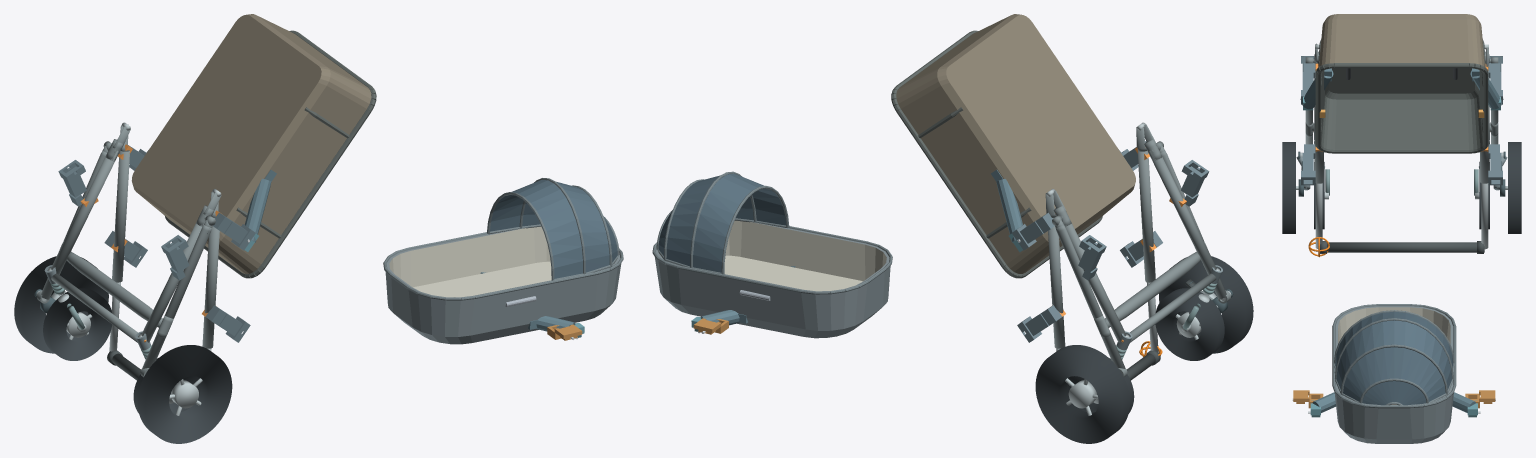
The model's file is D18_w650_state3_wheel_M.glb.
3 renders of one model, left to right at view 1: azimuth 30°, elevation 25°; view 2: azimuth 150°, elevation 25°; view 3: azimuth 270°, elevation 25°, orthographic. The views are drawn at different scales.
Parts seen in each view (by area): view 1: D18_Lower, D18_Upper, RL_tire.011, FR_tire.011, RR_tire.011, main_upper_1.012, main_lower_1.012, V46_rearbar.011, V46_rear_leg_-1.011, main_upper_-1.012, main_lower_-1.012, D18_Lower_Mount_M (+5 smaller); view 2: D18_Lower, D18_Upper, RR_tire.011, FL_tire.011, RL_tire.011, main_upper_-1.012, main_lower_-1.012, V46_rearbar.011, V46_rear_leg_1.011, main_upper_1.012, main_lower_1.012, D18_Lower_Mount_M (+6 smaller); view 3: D18_Lower, D18_Upper, round_handle.013, RL_tire.011, RR_tire.011, D18_Lower_Mount_M, D18_Upper_Mount_H, Universal_Cabin_Receiver_H_1, Universal_Cabin_Receiver_H_-1, handle_slider_1.013, handle_slider_-1.013, main_upper_1.012 (+7 smaller).
Part boxes in pixels (x1,y1,x2,y2): D18_Lower: (131,14,376,278); D18_Upper: (383,178,623,344); RL_tire.011: (137,345,232,443); FR_tire.011: (43,288,112,360); RR_tire.011: (14,256,108,353); main_upper_1.012: (112,151,129,282); main_lower_1.012: (51,150,118,274); V46_rearbar.011: (66,251,162,327); V46_rear_leg_-1.011: (142,225,211,368); main_upper_-1.012: (202,218,219,348); main_lower_-1.012: (141,222,204,342); D18_Lower_Mount_M: (146,150,276,251); D18_Lower: (891,14,1135,278); D18_Upper: (652,171,892,338); RR_tire.011: (1035,345,1129,443); FL_tire.011: (1155,288,1224,360); RL_tire.011: (1159,256,1253,353); main_upper_-1.012: (1137,151,1155,282); main_lower_-1.012: (1149,150,1216,274); V46_rearbar.011: (1105,251,1200,327); V46_rear_leg_1.011: (1055,225,1125,368); main_upper_1.012: (1048,218,1065,348); main_lower_1.012: (1062,222,1126,342); D18_Lower_Mount_M: (991,150,1121,252); D18_Lower: (1315,14,1488,153); D18_Upper: (1332,304,1456,443); round_handle.013: (1327,242,1484,252); RL_tire.011: (1282,142,1295,233); RR_tire.011: (1508,142,1521,233); D18_Lower_Mount_M: (1300,68,1503,110); D18_Upper_Mount_H: (1308,392,1480,417); Universal_Cabin_Receiver_H_1: (1488,144,1502,185); Universal_Cabin_Receiver_H_-1: (1301,144,1315,185); handle_slider_1.013: (1481,183,1488,249); handle_slider_-1.013: (1315,183,1322,248); main_upper_1.012: (1480,69,1489,183).
Bounding box in the file's own units: 1.81 × 1.07 × 0.781.
